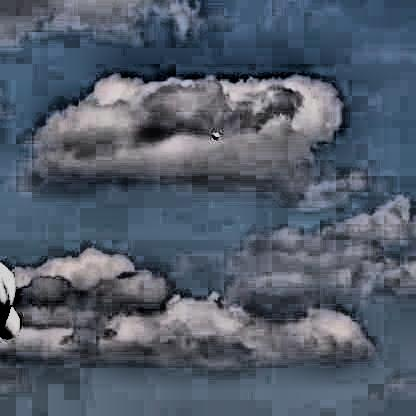golfball: (211, 130, 220, 141)
